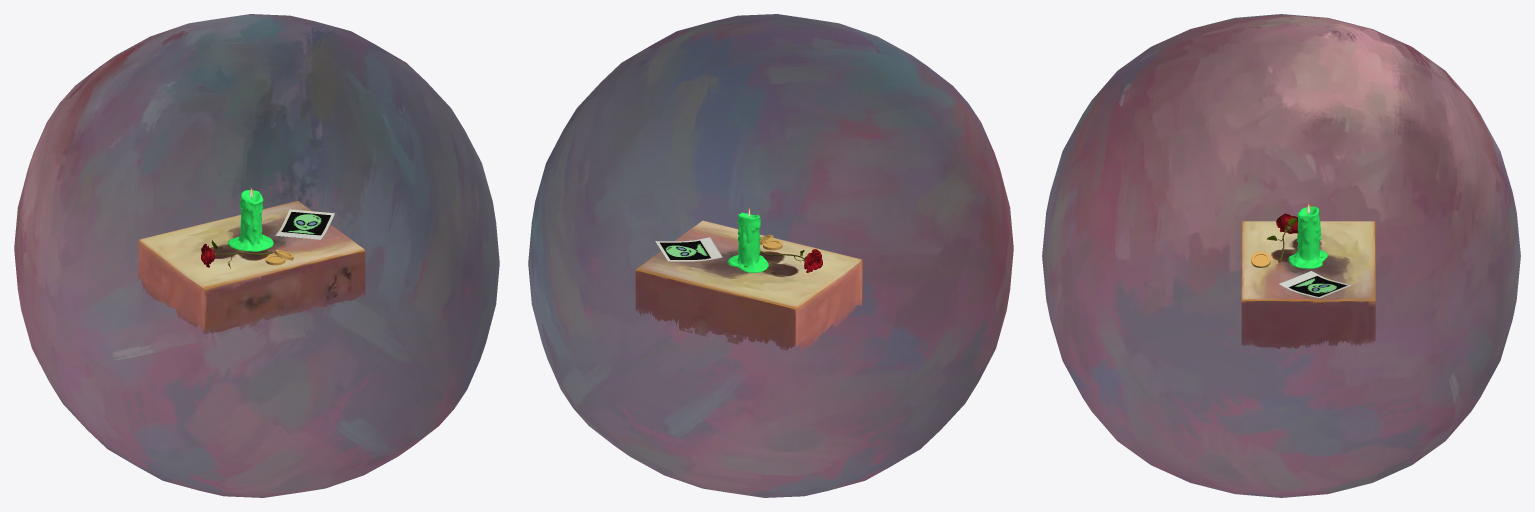
The model's file is small_altar.glb.
The picture shows the model from 3 angles, left to right: view 1: azimuth 30°, elevation 25°; view 2: azimuth 150°, elevation 25°; view 3: azimuth 270°, elevation 25°; orthographic projection.
Visible parts, largest first — view 1: Object_28, Object_30, Candle.000, Object_3; view 2: Object_28, Object_30, Candle.000, Object_3; view 3: Object_28, Object_30, Candle.000, Object_3.
Boxes of the visible parts, bbox=[...] form: Object_28: bbox=[14, 14, 499, 497]; Object_30: bbox=[138, 201, 365, 334]; Candle.000: bbox=[228, 190, 273, 251]; Object_3: bbox=[281, 212, 330, 235]; Object_28: bbox=[528, 14, 1013, 497]; Object_30: bbox=[635, 220, 862, 352]; Candle.000: bbox=[727, 212, 768, 272]; Object_3: bbox=[660, 240, 710, 259]; Object_28: bbox=[1042, 14, 1520, 497]; Object_30: bbox=[1241, 221, 1375, 349]; Candle.000: bbox=[1288, 206, 1327, 268]; Object_3: bbox=[1289, 276, 1347, 296].
Size of the model in its own units: 11.73 by 11.73 by 11.73.
13 materials, 6 textured.
